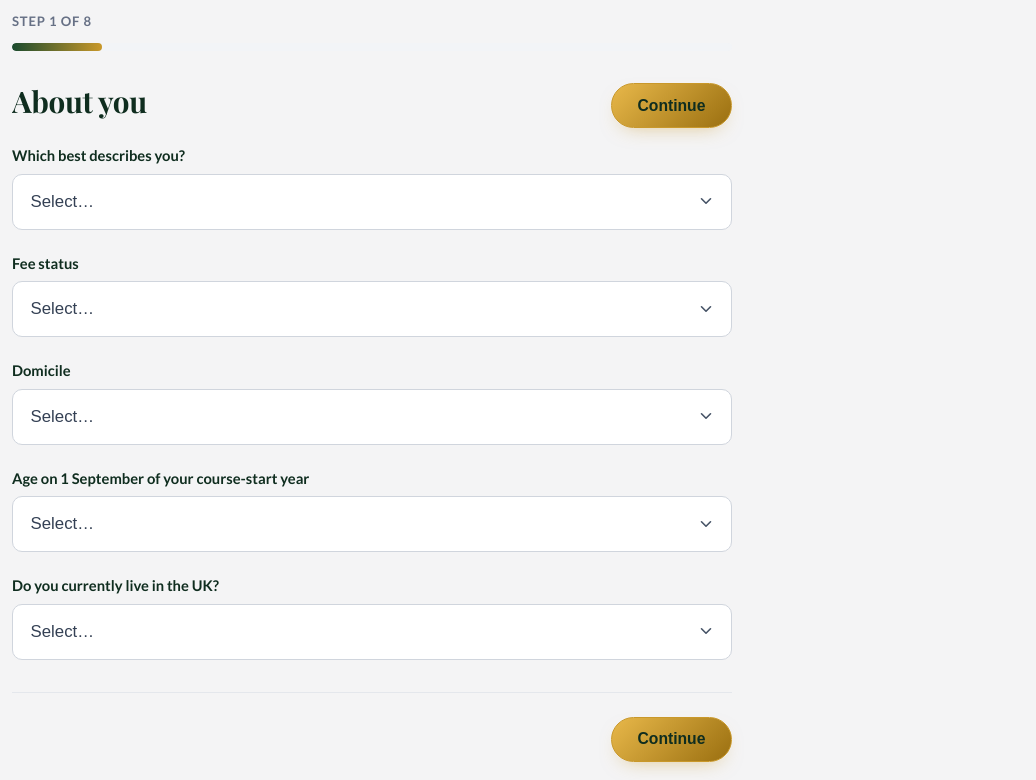
Test: WizardPage navigation › advances to step 2 once step 1 is valid, and can navigate back
Select "Standard Entry" in the dropdown with id "applicant_type" at (372, 202), box [12, 174, 732, 230]
Select "Home (UK)" in the dropdown with id "fee_status" at (372, 309), box [12, 281, 732, 337]
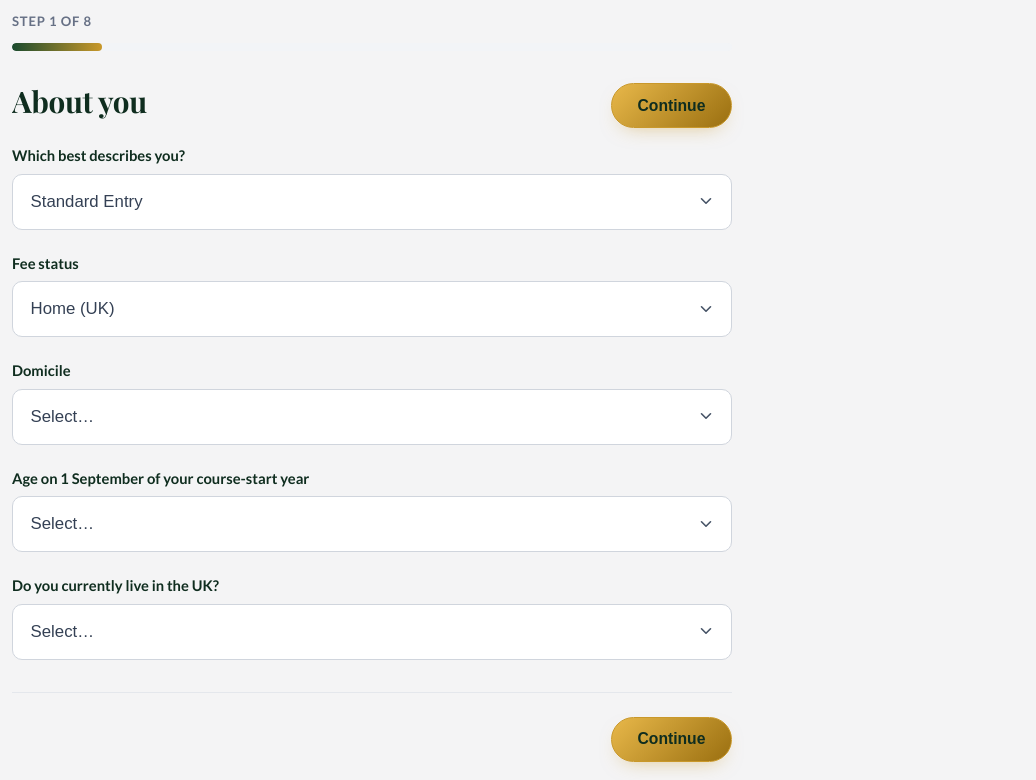
Select "England" in the dropdown with id "domicile" at (372, 417), box [12, 389, 732, 444]
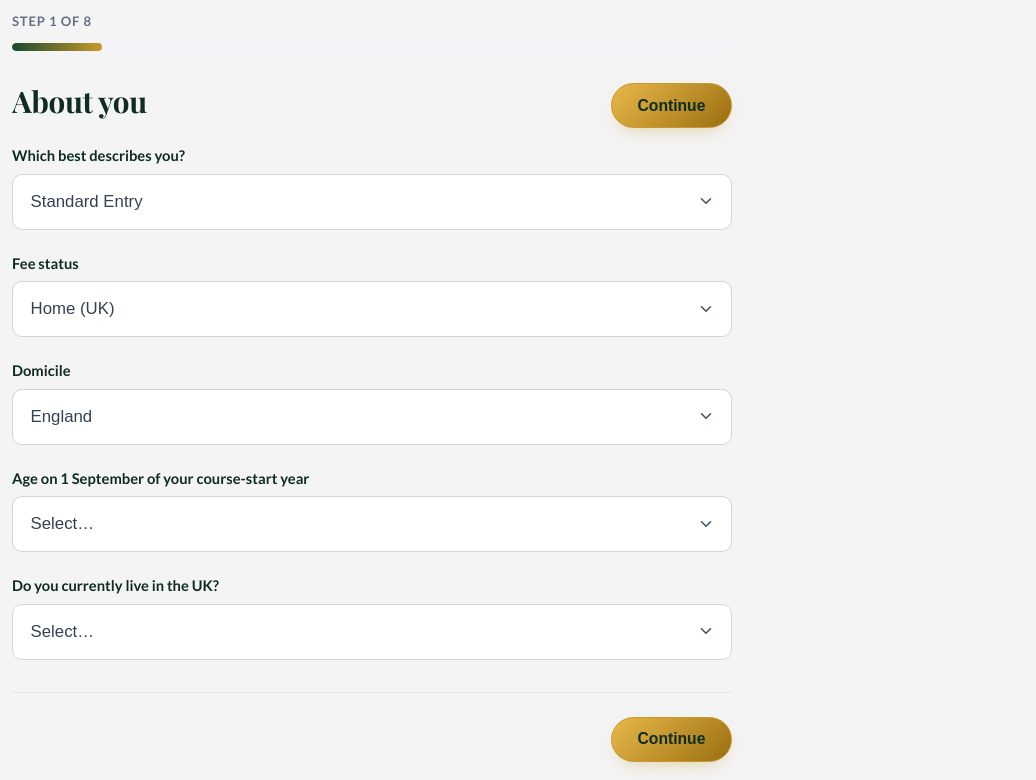
Select "18" in the dropdown with id "age_at_course_start_band" at (372, 524), box [12, 496, 732, 552]
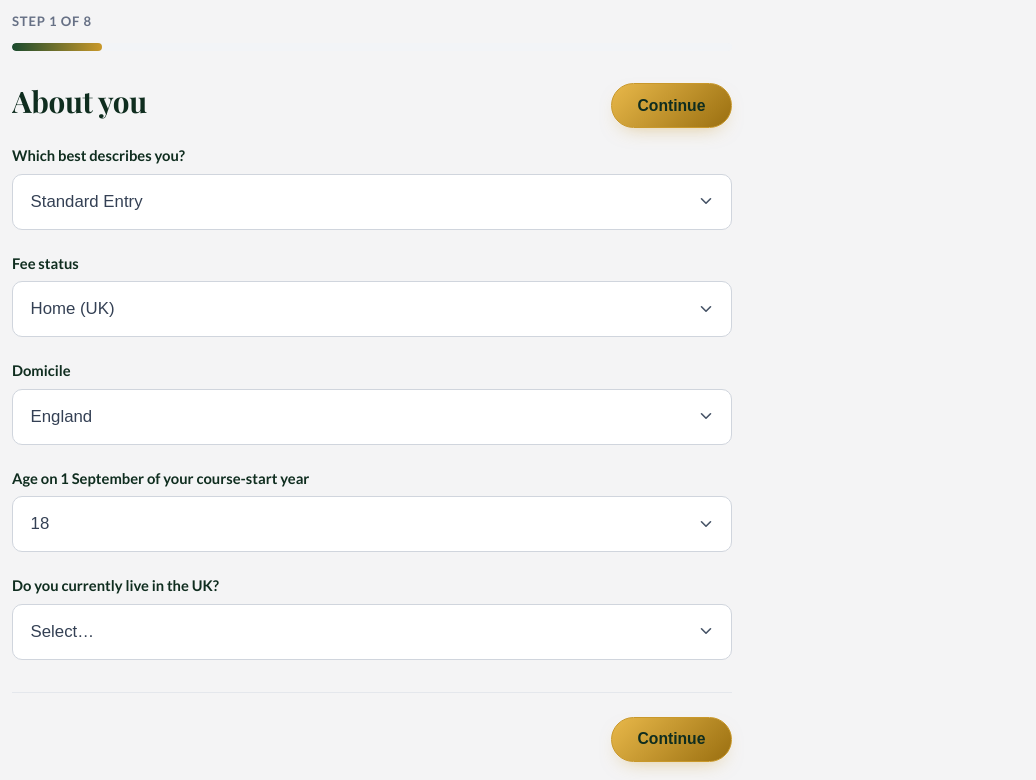
Select "Yes" in the dropdown with id "current_uk_residence" at (372, 632), box [12, 604, 732, 660]
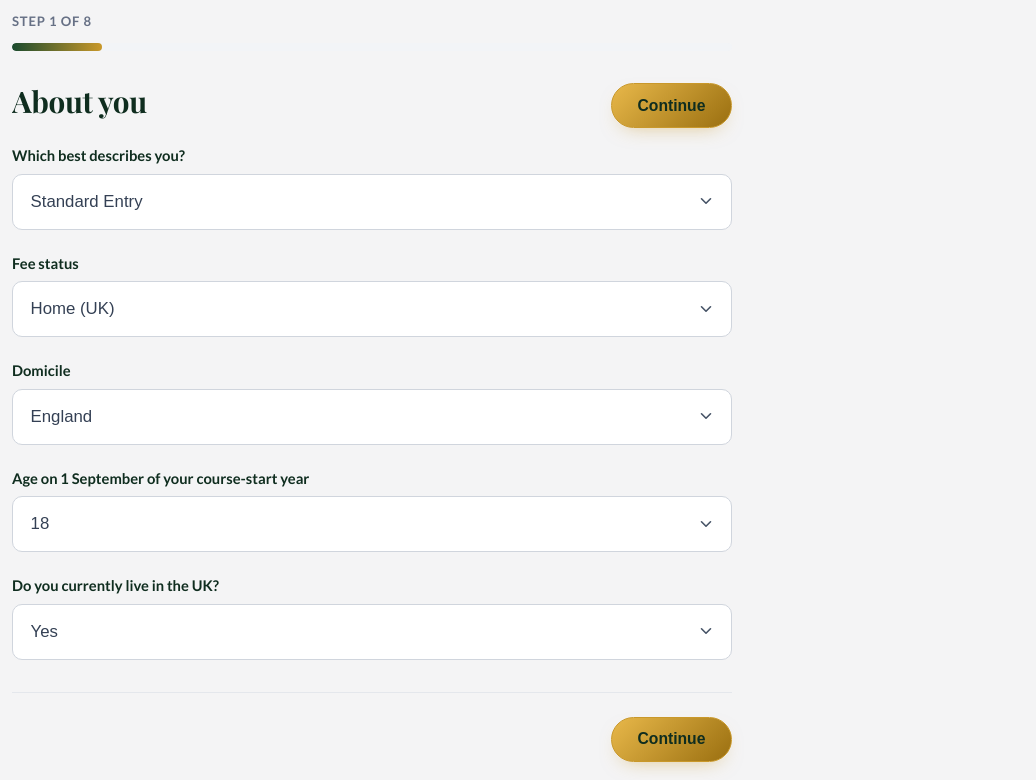
Click the button "Continue" in the row of "About you" at (671, 106), box [611, 83, 732, 128]
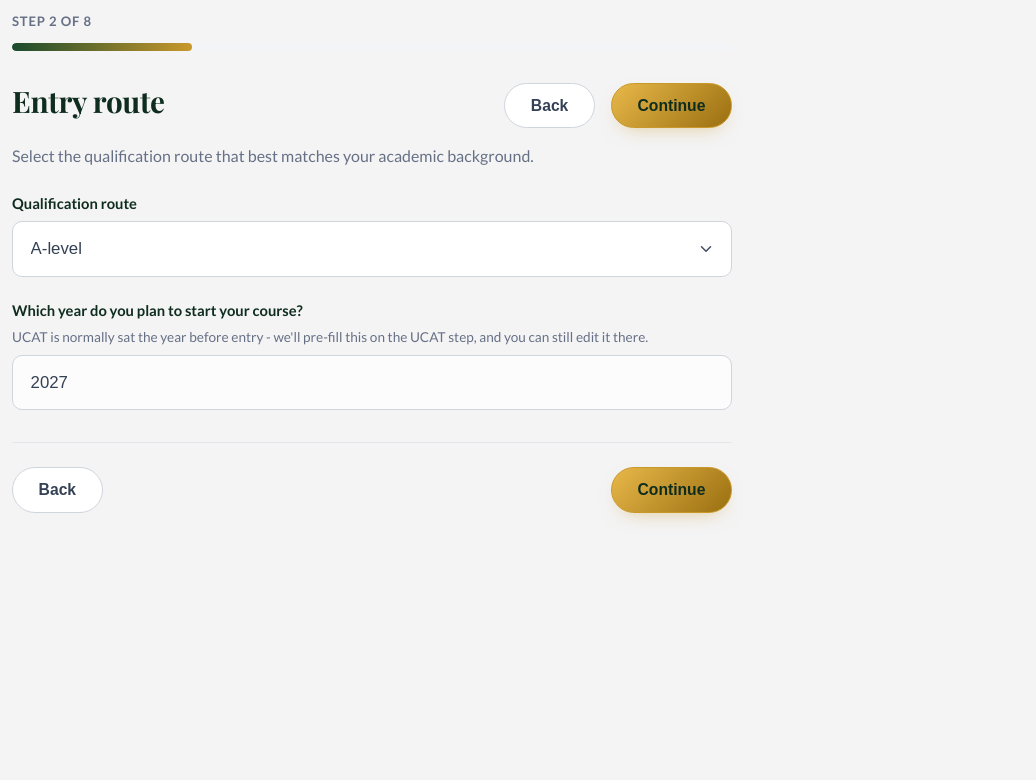
Expected: the text with test id "wizard-progress" reads "Step 2 of 8", [12, 13, 92, 29]
Click the button "Back" in the row of "Entry route" at (550, 106), box [504, 83, 595, 128]
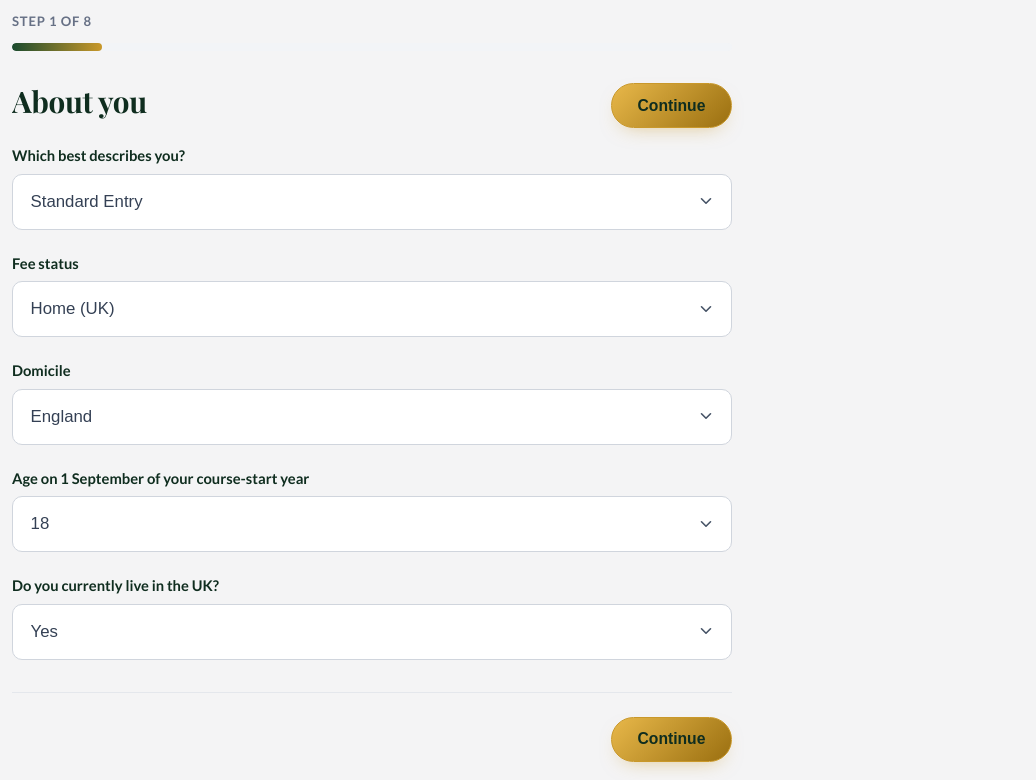
Expected: the text with test id "wizard-progress" reads "Step 1 of 8", [12, 13, 92, 29]
